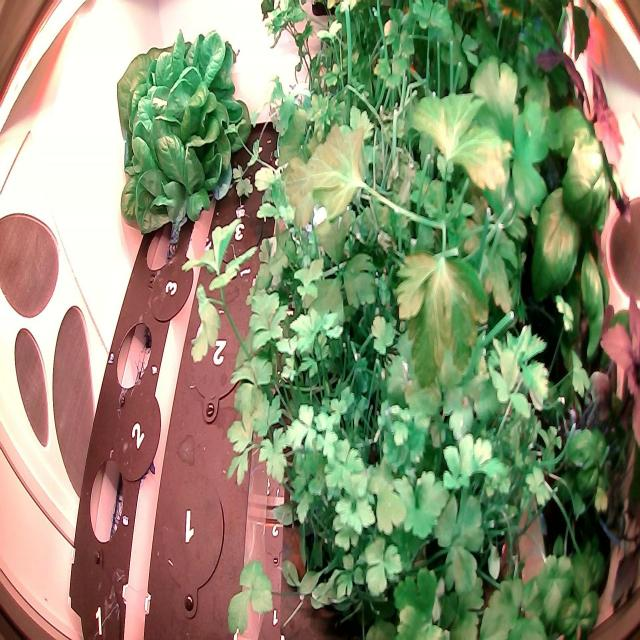Ready: (114, 23, 255, 235)
empty_pod: (149, 465, 228, 603), (184, 301, 254, 419), (207, 182, 270, 276), (81, 438, 130, 554), (104, 313, 158, 397), (135, 211, 182, 288), (236, 122, 276, 182)
